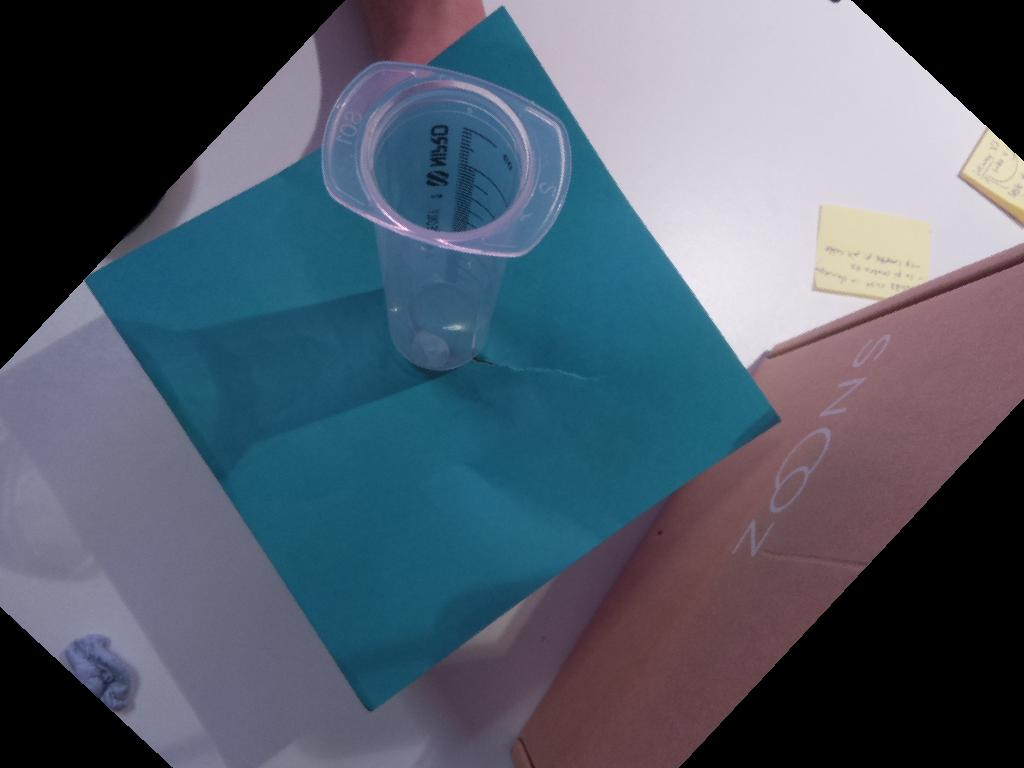clean: (320, 59, 575, 258)
